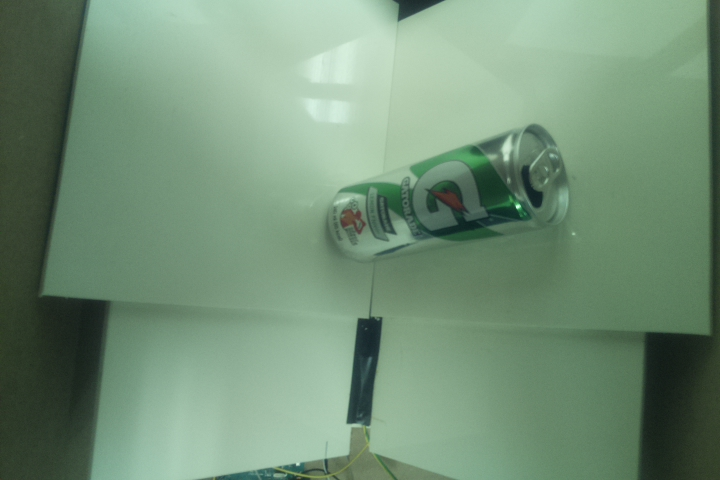can: (322, 121, 569, 266)
